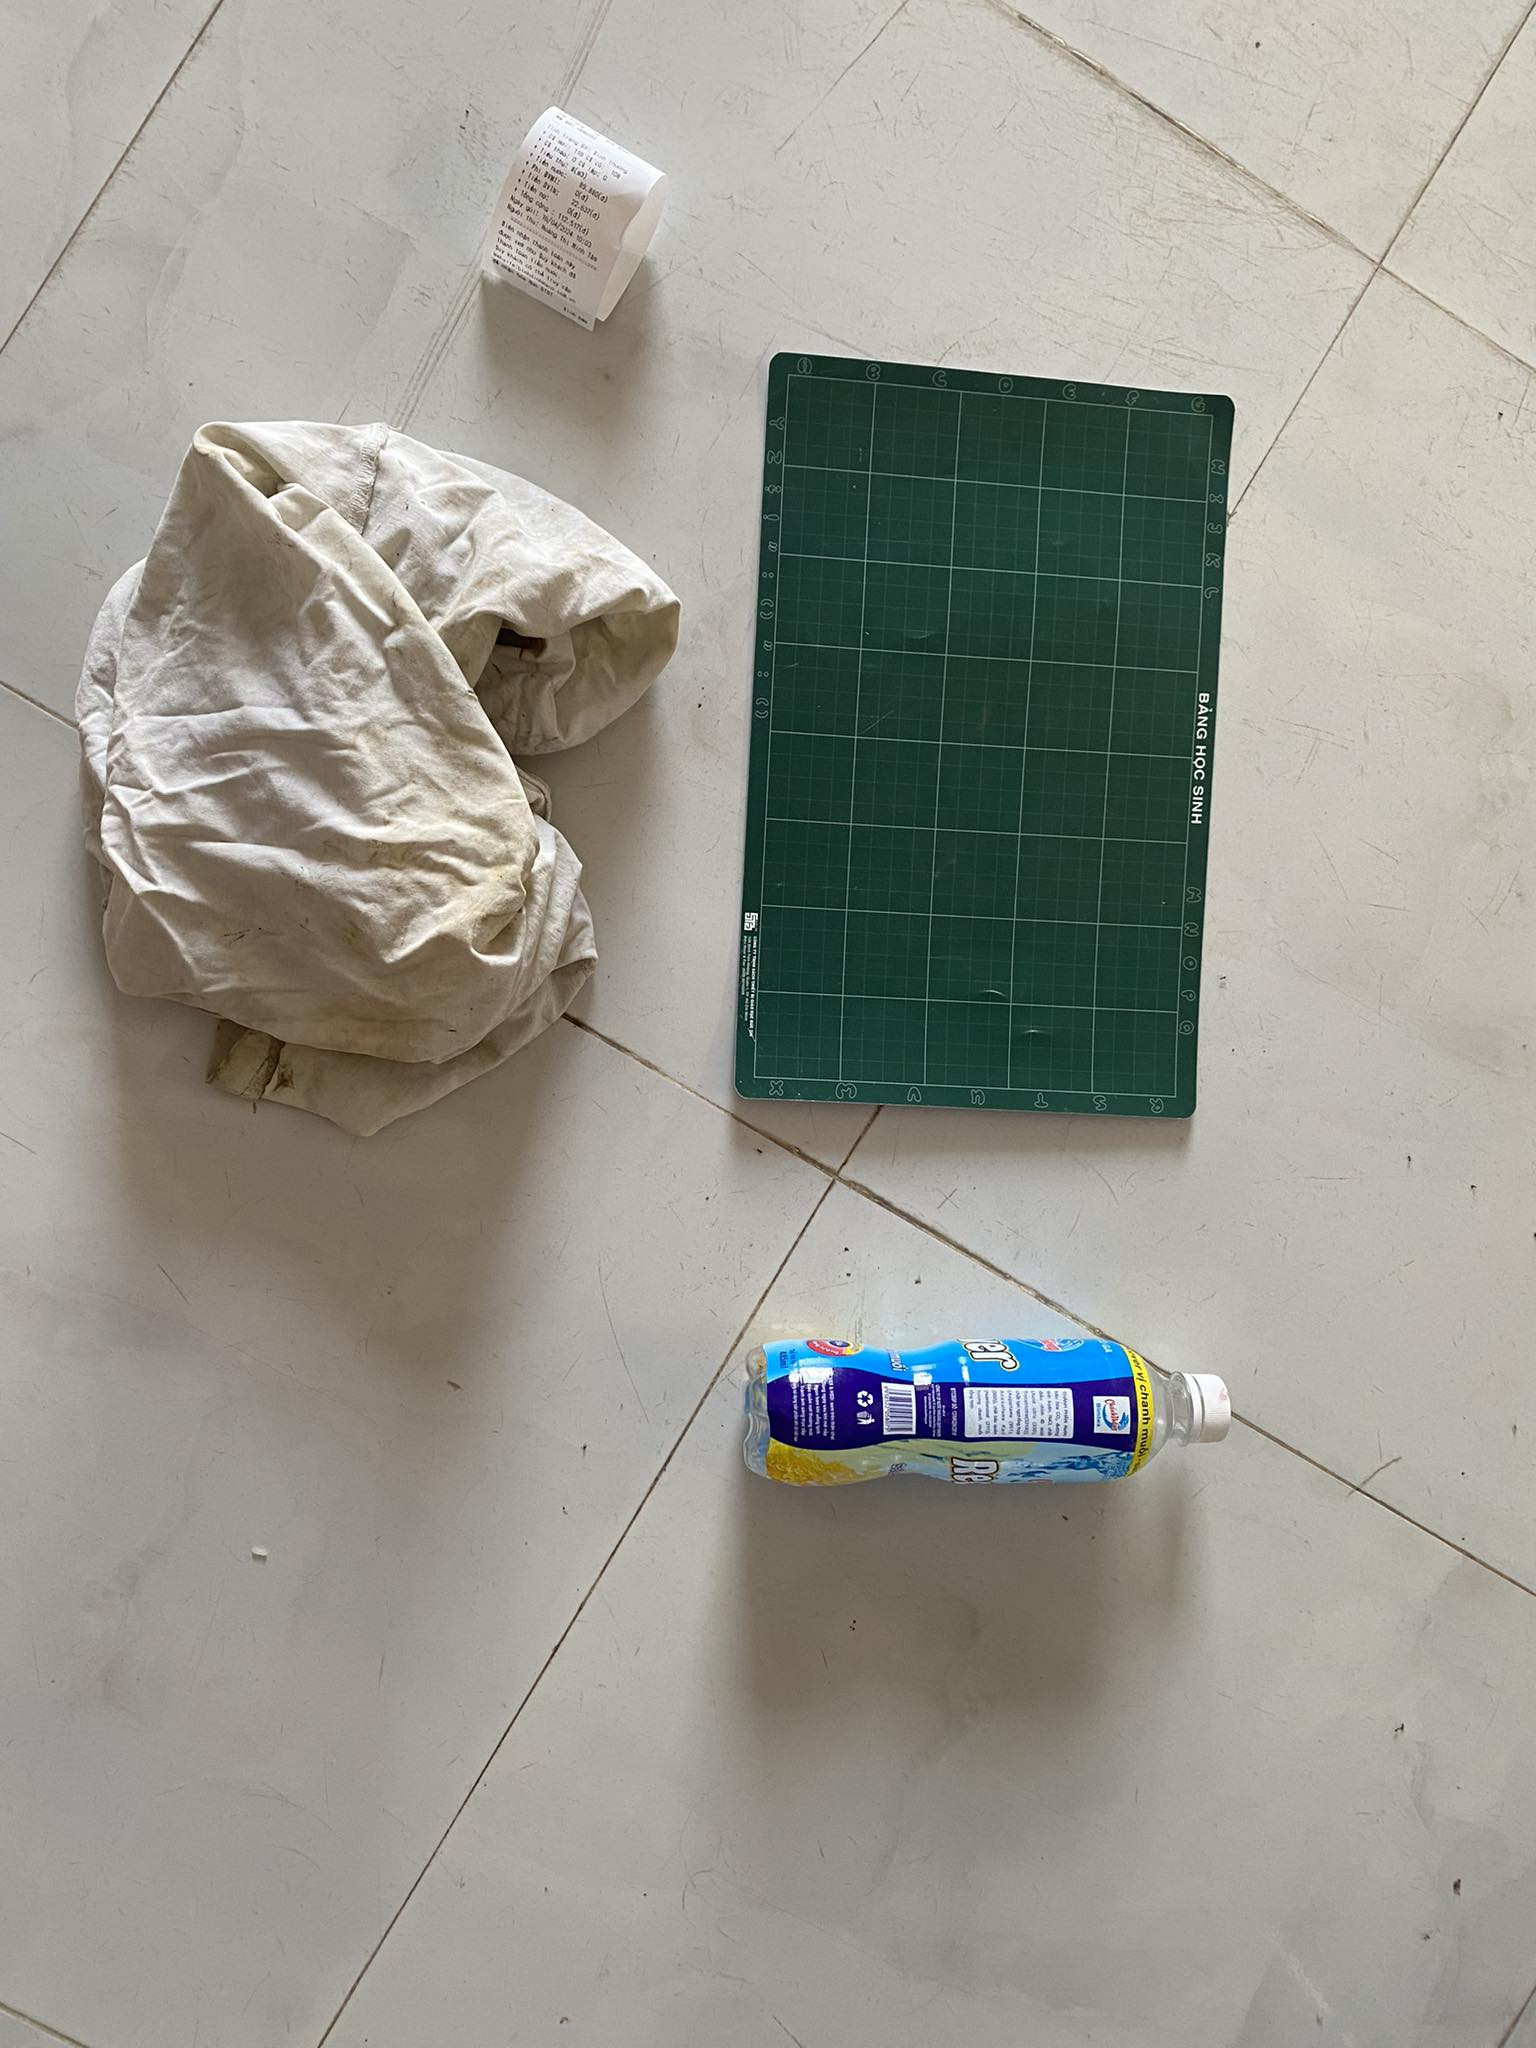clothes: (68, 366, 686, 1153), (73, 758, 103, 772)
paper: (449, 110, 703, 347)
plastic: (708, 316, 1260, 1176), (700, 1313, 1241, 1550)
